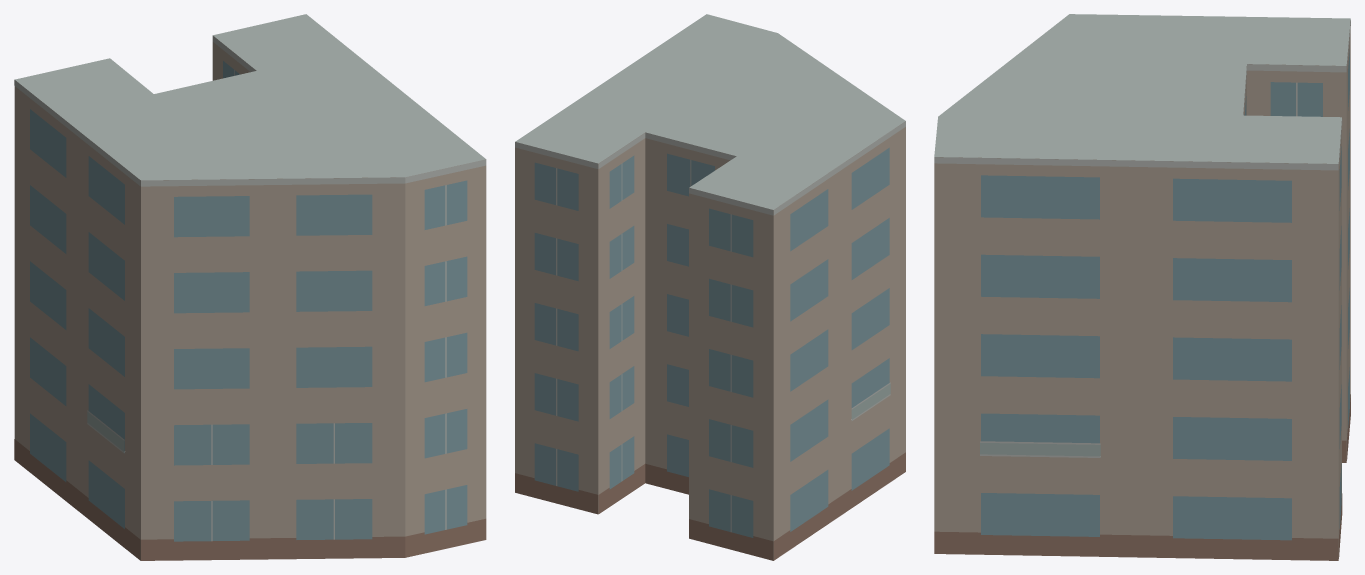
The model's file is survey-upis-33046837.glb.
The picture shows the model from 3 angles, left to right: view 1: azimuth 30°, elevation 25°; view 2: azimuth 150°, elevation 25°; view 3: azimuth 270°, elevation 25°; orthographic projection. The views are drawn at different scales.
Visible parts, largest first — view 1: survey-upis-33046837.tmp; view 2: survey-upis-33046837.tmp; view 3: survey-upis-33046837.tmp.
Boxes of the visible parts, x1,y1,x2,y2 form: survey-upis-33046837.tmp: (14, 14, 486, 560); survey-upis-33046837.tmp: (515, 14, 905, 560); survey-upis-33046837.tmp: (934, 14, 1350, 560).
Size of the model in its own units: 12.13 by 14.95 by 14.23.
